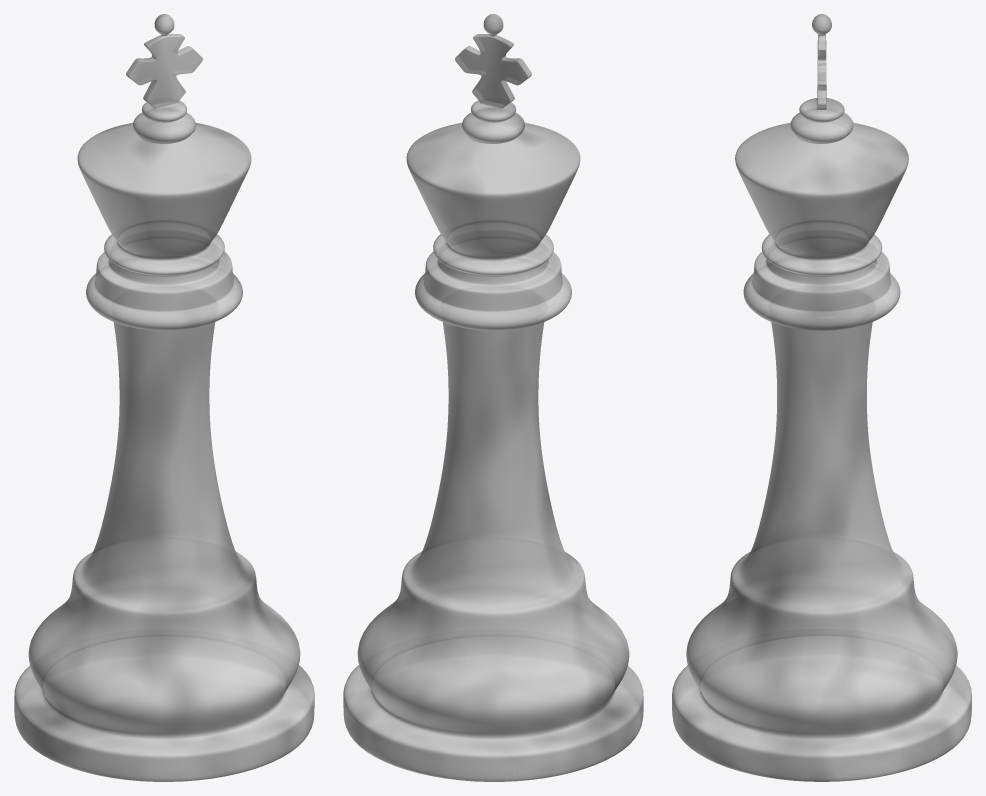
The model's file is rey_regular.glb.
The picture shows the model from 3 angles, left to right: view 1: azimuth 30°, elevation 25°; view 2: azimuth 150°, elevation 25°; view 3: azimuth 270°, elevation 25°; orthographic projection.
Visible parts, largest first — view 1: KING; view 2: KING; view 3: KING.
Boxes of the visible parts, x1,y1,x2,y2 form: KING: [14, 14, 314, 781]; KING: [343, 14, 643, 781]; KING: [672, 14, 971, 781].
Size of the model in its own units: 0.0448 by 0.1158 by 0.0446.
Materials: 1 (1 with a texture image).
